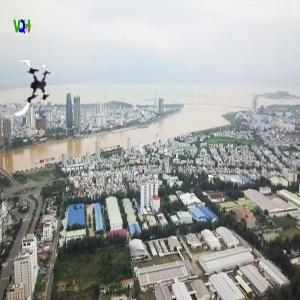drone: (5, 57, 63, 115)
